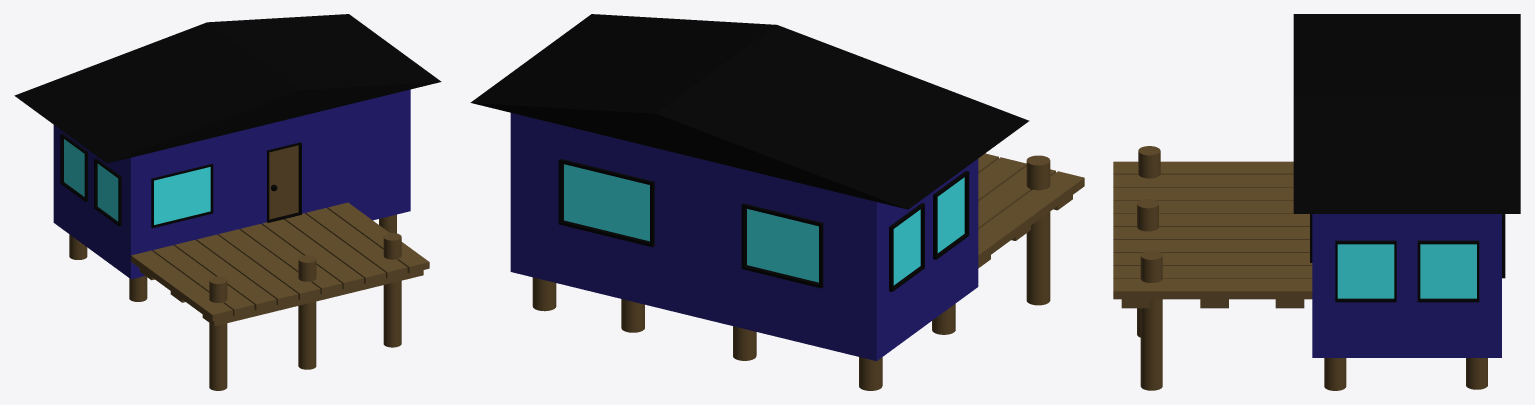
Rendered from Shop.fbx.
The picture shows the model from 3 angles, left to right: view 1: azimuth 30°, elevation 25°; view 2: azimuth 150°, elevation 25°; view 3: azimuth 270°, elevation 25°; orthographic projection. The views are drawn at different scales.
Parts seen in each view (by area): view 1: Cube, Cube.001, Cylinder.001, Cylinder; view 2: Cube, Cube.001, Cylinder, Cylinder.001; view 3: Cube, Cube.001, Cylinder.001, Cylinder.
Boxes of the visible parts, x1,y1,x2,y2 form: Cube: [14, 14, 441, 279]; Cube.001: [131, 202, 429, 326]; Cylinder.001: [209, 233, 401, 390]; Cylinder: [69, 214, 396, 301]; Cube: [470, 14, 1029, 361]; Cube.001: [978, 153, 1084, 268]; Cylinder: [532, 277, 955, 390]; Cylinder.001: [1026, 155, 1050, 305]; Cube: [1293, 14, 1520, 357]; Cube.001: [1113, 161, 1312, 308]; Cylinder.001: [1137, 146, 1162, 390]; Cylinder: [1324, 358, 1487, 390].
Bounding box in the file's own units: 1813 × 1136 × 1562.
